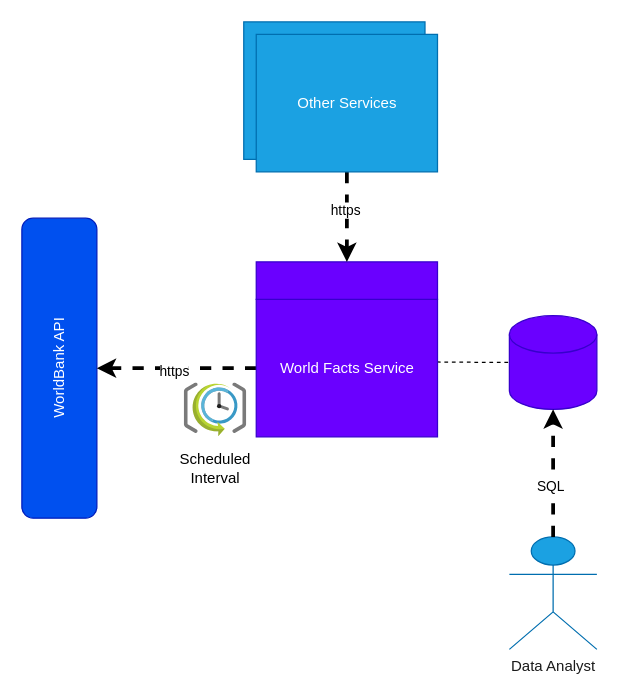
This 619x698 diagram has some shape labels left out. The box of each missing label's shape, as (x1, y1, x2, y2) in pixels:
API: (255, 261, 438, 299)
duckdb: (508, 314, 597, 409)
